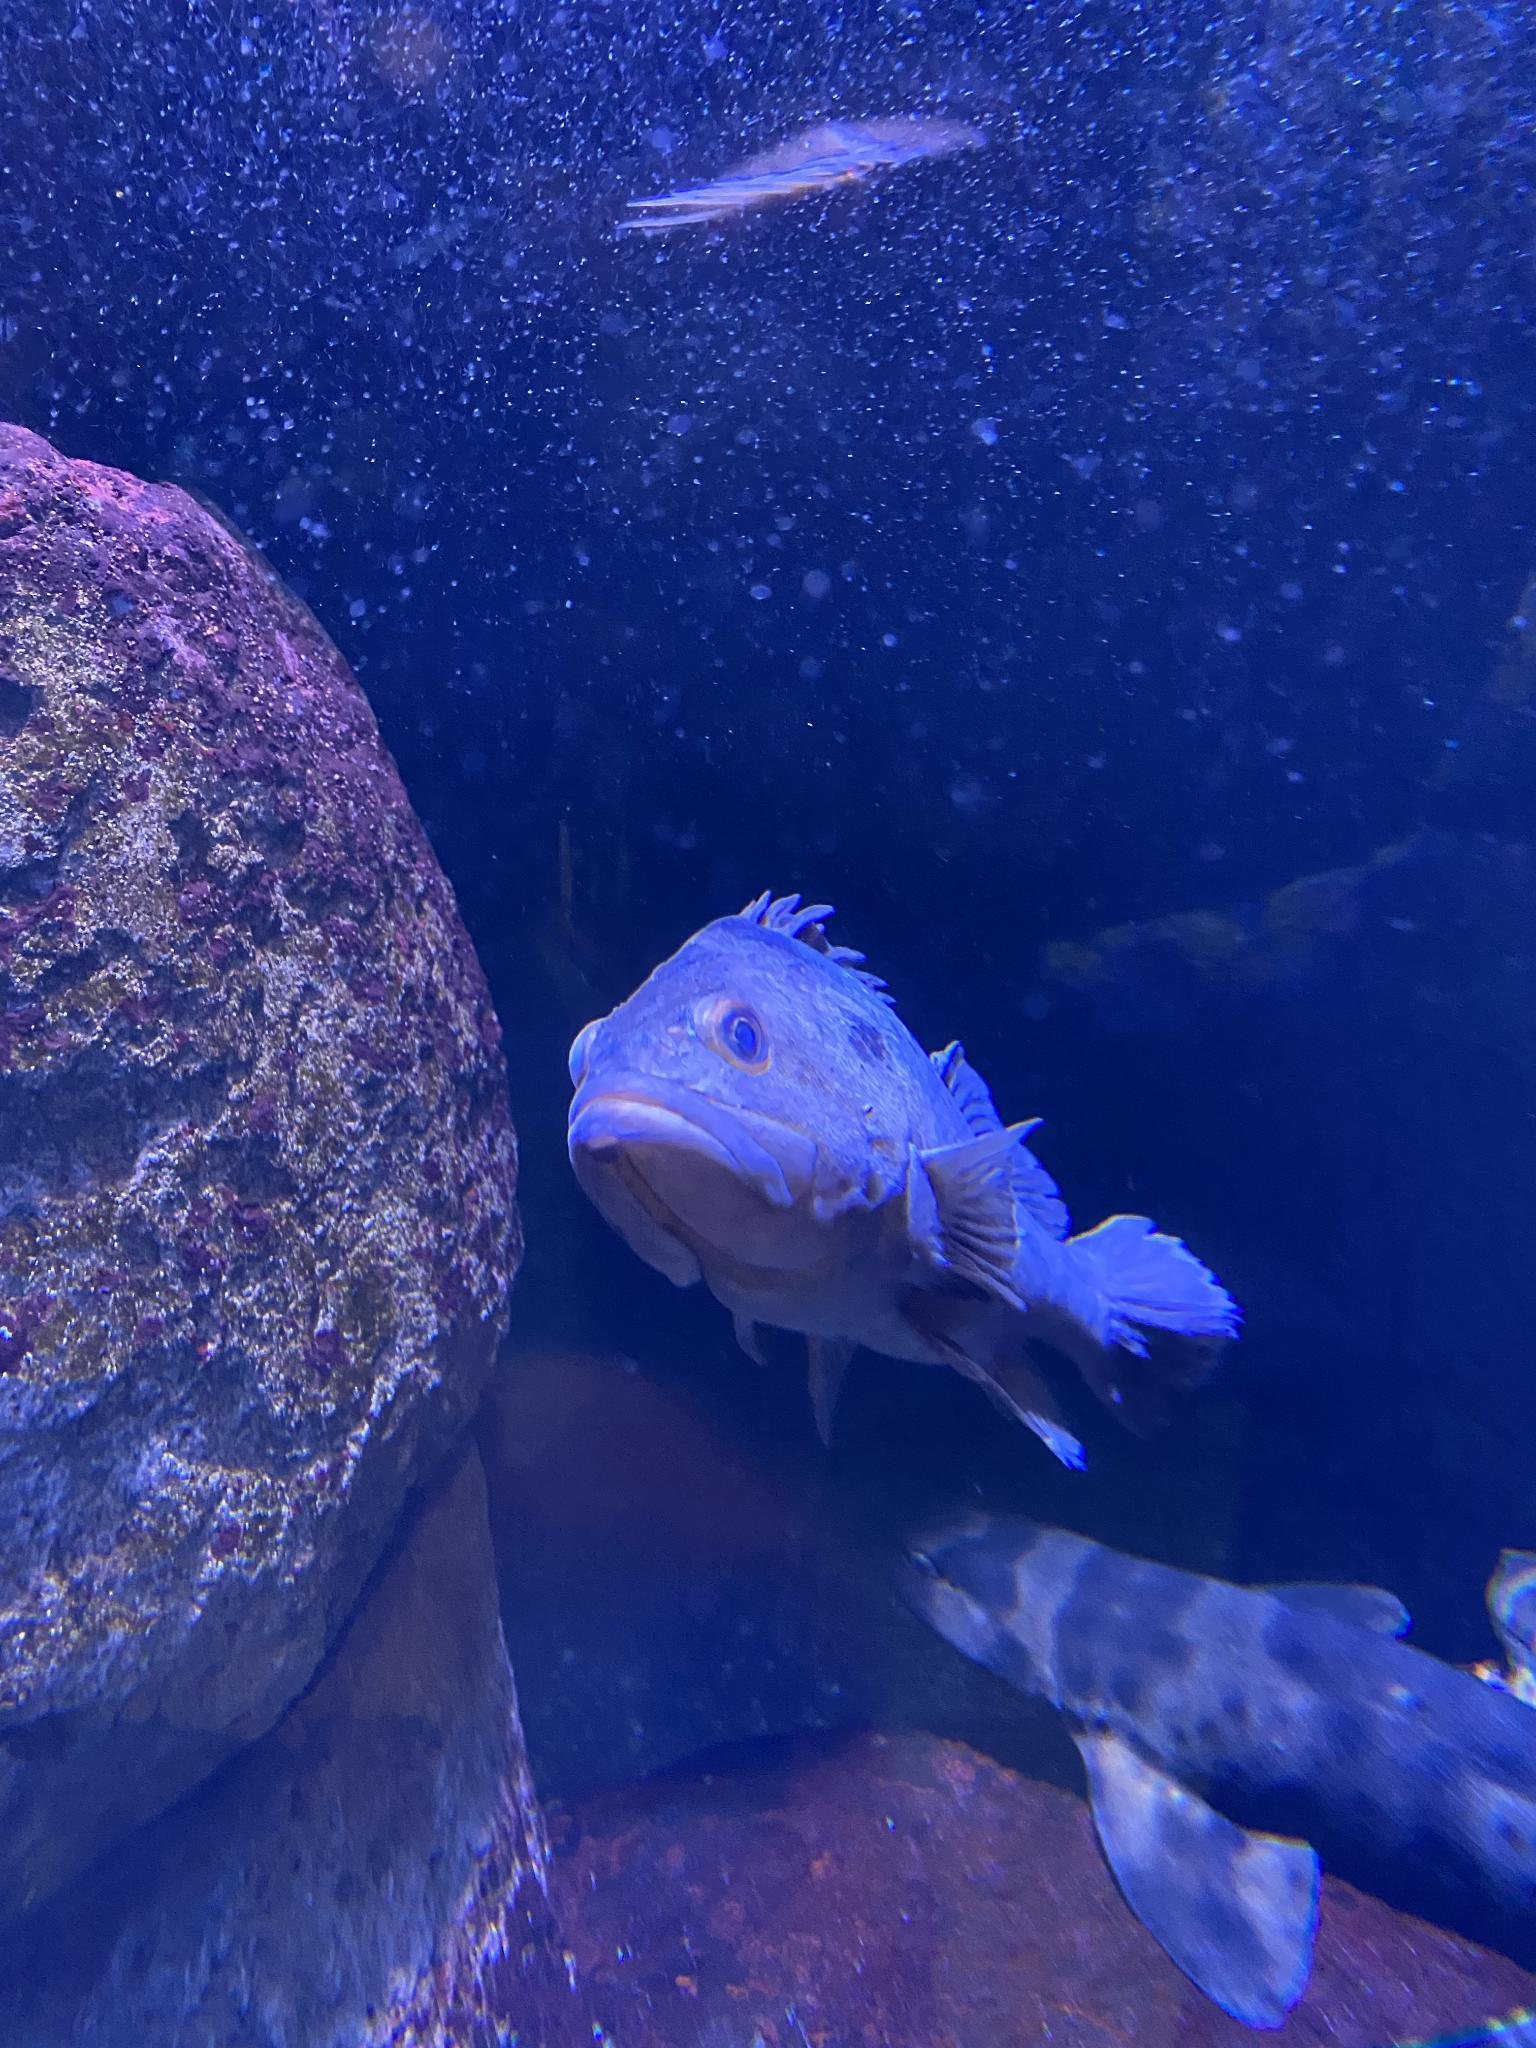fish: (568, 892, 1242, 1476), (884, 1500, 1534, 2030)
